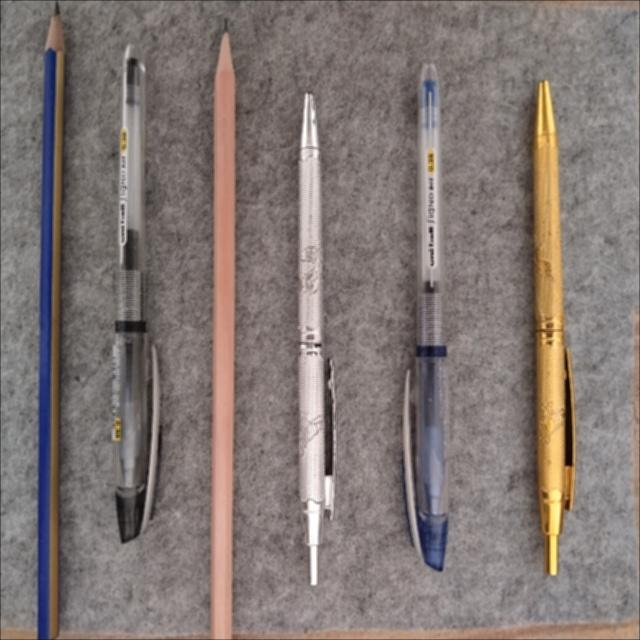pen: (112, 45, 158, 542), (403, 64, 447, 570)
pencil: (37, 2, 64, 638), (210, 25, 234, 638)
signature pen: (533, 81, 575, 574), (298, 93, 335, 585)
